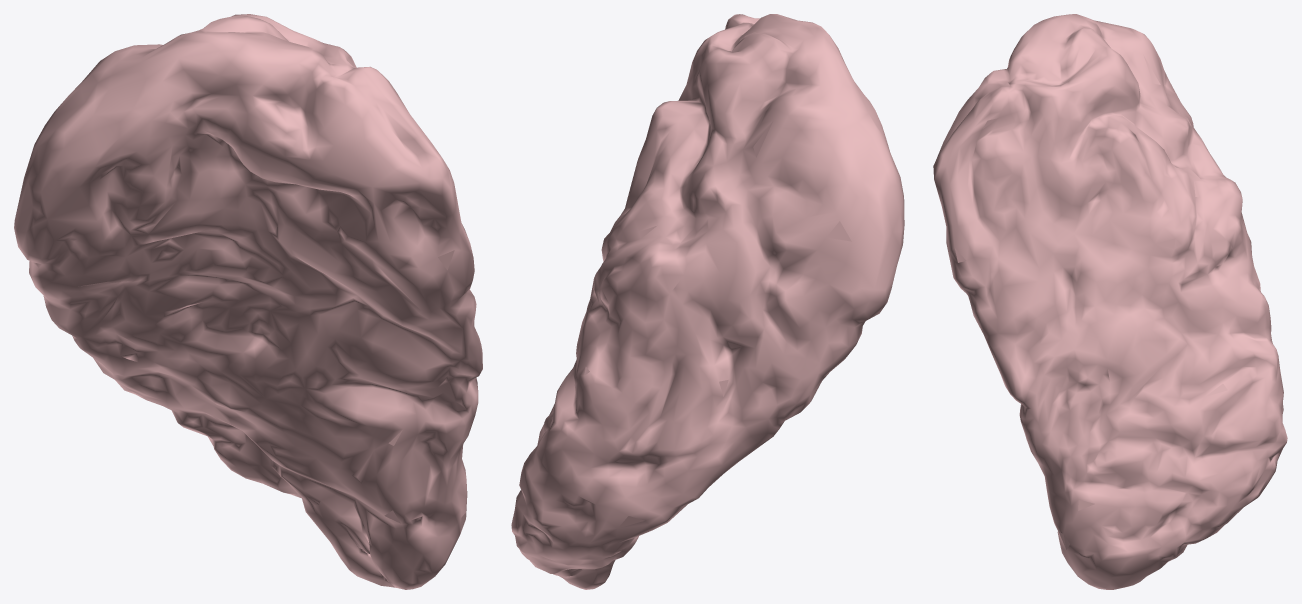
Rendered from 3d-vh-m-palatine-tonsil-l-40.glb.
3 views of the same model, side by side, from view 1: azimuth 30°, elevation 25°; view 2: azimuth 150°, elevation 25°; view 3: azimuth 270°, elevation 25° (orthographic). The views are drawn at different scales.
Parts seen in each view (by area): view 1: VH_M_palatine_tonsil_L; view 2: VH_M_palatine_tonsil_L; view 3: VH_M_palatine_tonsil_L.
Part boxes in pixels (bbox=[...]): VH_M_palatine_tonsil_L: bbox=[14, 14, 482, 589]; VH_M_palatine_tonsil_L: bbox=[511, 14, 904, 589]; VH_M_palatine_tonsil_L: bbox=[933, 14, 1287, 589].
Bounding box in the file's own units: 0.0164 × 0.0243 × 0.0159.
